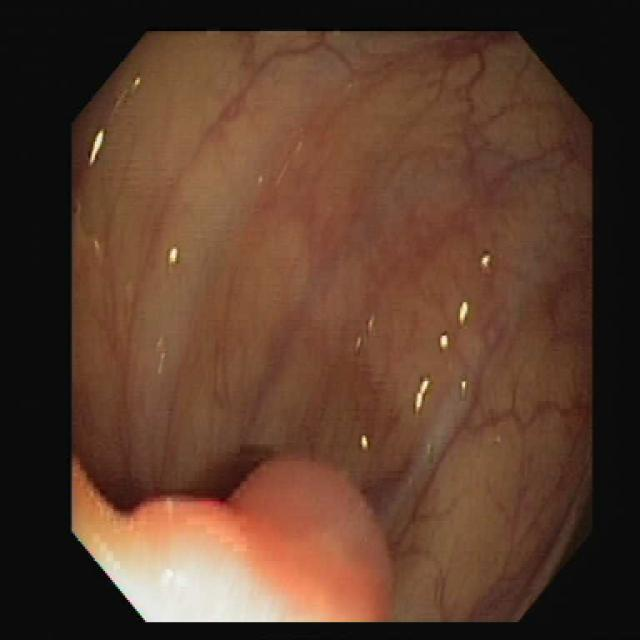tumor: (73, 458, 390, 620)
